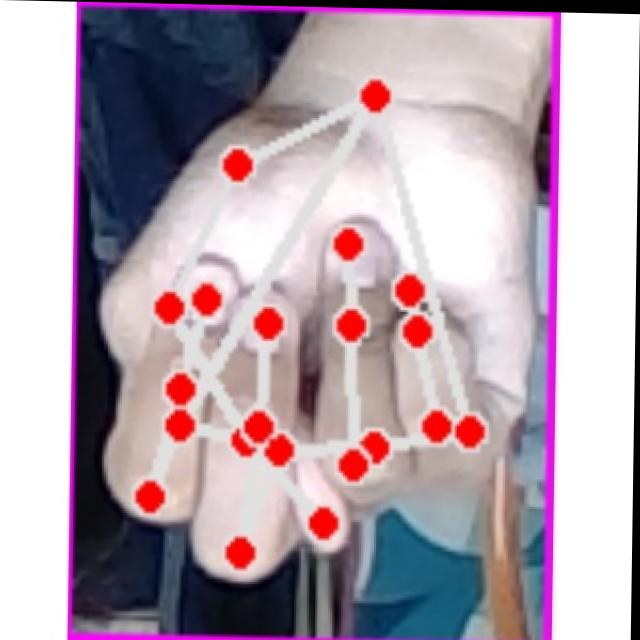N: (88, 76, 550, 602)
